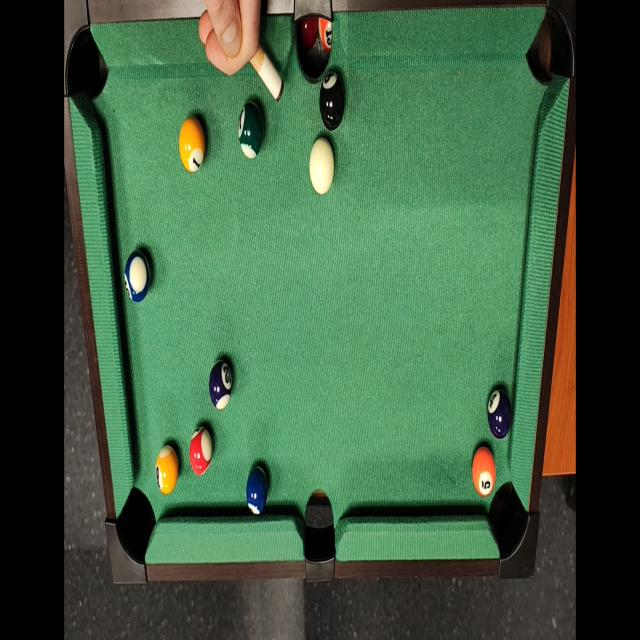cue ball: (307, 132, 336, 202)
other: (318, 72, 346, 138), (178, 113, 207, 174), (486, 382, 514, 442), (237, 100, 265, 160), (470, 440, 496, 500), (244, 460, 270, 520), (124, 249, 152, 304), (153, 444, 180, 498), (209, 355, 233, 411), (190, 423, 214, 473)
